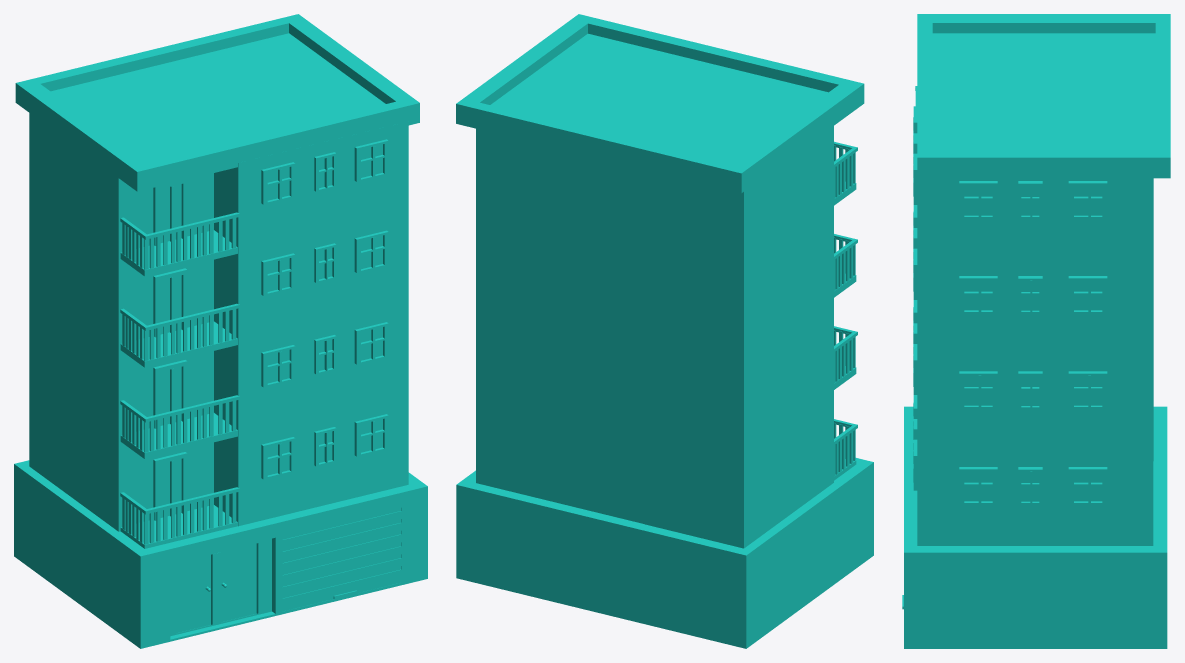
3 views of the same model, side by side, from view 1: azimuth 30°, elevation 25°; view 2: azimuth 150°, elevation 25°; view 3: azimuth 270°, elevation 25° (orthographic). The views are drawn at different scales.
Parts seen in each view (by area): view 1: pasted__pasted__pasted__pCube30 pasted__pasted__group pasted, pasted__pasted__floor_01 pasted__group group22 pasted__past. (×5), pasted__pasted__pasted__floor_01 pasted__pasted__group past. (×5), ground pasted__pCube30 pasted__floor01, pasted__floor_01 group pasted__floor01 pasted__pCube30, floor_01 floor01 pCube30, pasted__floor_01 group pasted__floor01 pasted__pasted__pCube (×2), floor_01 floor01 pasted__pCube30 group, ground pasted__pCube33 pasted__floor02, pasted__floor_01 group pasted__floor01 pasted__pCube33, floor_01 floor01 pCube33, pasted__floor_01 group pasted__floor01 pasted__pasted__paste (+17 smaller); view 2: pasted__pasted__pasted__pCube30 pasted__pasted__group pasted, ground pasted__pCube30 pasted__floor01, pasted__pasted__floor_01 pasted__group group22 pasted__past. (×2), pasted__pasted__pasted__floor_01 pasted__pasted__group past. (×2), pasted__floor_01 group pasted__floor01 pasted__pasted__pCube, floor_01 floor01 pasted__pCube30 group, pasted__floor_01 group pasted__floor01 pasted__pCube30, floor_01 floor01 pCube30; view 3: pasted__pasted__pasted__pCube30 pasted__pasted__group pasted, ground pasted__pCube30 pasted__floor01, pasted__pasted__floor_01 pasted__group group22 pasted__past. (×3), pasted__floor_01 group pasted__floor01 pasted__pCube30, pasted__pasted__pasted__floor_01 pasted__pasted__group past. (×3), floor_01 floor01 pCube30, pasted__floor_01 group pasted__pasted__pasted__pasted__pCube (×2), floor_01 pasted__pasted__pasted__pasted__pCube33, pasted__floor_01 group pasted__pasted__pasted__pasted__paste, floor_01 pasted__pasted__pasted__pCube33, pasted__pasted__floor_01 pasted__group group22 pasted__past, pasted__pasted__pasted__floor_01 pasted__pasted__group past (+1 smaller).
Boxes of the visible parts, <box> form: pasted__pasted__pasted__pCube30 pasted__pasted__group pasted: <box>15,14,419,191</box>; pasted__pasted__floor_01 pasted__group group22 pasted__past. (×5): <box>29,194,408,367</box>; pasted__pasted__pasted__floor_01 pasted__pasted__group past. (×5): <box>29,113,408,276</box>; ground pasted__pCube30 pasted__floor01: <box>14,460,427,648</box>; pasted__floor_01 group pasted__floor01 pasted__pCube30: <box>214,304,408,437</box>; floor_01 floor01 pCube30: <box>214,396,408,526</box>; pasted__floor_01 group pasted__floor01 pasted__pasted__pCube (×2): <box>29,285,295,441</box>; floor_01 floor01 pasted__pCube30 group: <box>29,377,213,531</box>; ground pasted__pCube33 pasted__floor02: <box>170,538,271,636</box>; pasted__floor_01 group pasted__floor01 pasted__pCube33: <box>153,360,187,428</box>; floor_01 floor01 pCube33: <box>153,452,187,520</box>; pasted__floor_01 group pasted__floor01 pasted__pasted__paste: <box>120,413,237,458</box>; pasted__pasted__pasted__pCube30 pasted__pasted__group pasted: <box>456,14,864,193</box>; ground pasted__pCube30 pasted__floor01: <box>456,458,873,648</box>; pasted__pasted__floor_01 pasted__group group22 pasted__past. (×2): <box>476,207,833,365</box>; pasted__pasted__pasted__floor_01 pasted__pasted__group past. (×2): <box>476,126,833,273</box>; pasted__floor_01 group pasted__floor01 pasted__pasted__pCube: <box>644,299,833,457</box>; floor_01 floor01 pasted__pCube30 group: <box>644,392,833,548</box>; pasted__floor_01 group pasted__floor01 pasted__pCube30: <box>476,301,644,435</box>; floor_01 floor01 pCube30: <box>476,393,644,523</box>; pasted__pasted__pasted__pCube30 pasted__pasted__group pasted: <box>917,14,1170,178</box>; ground pasted__pCube30 pasted__floor01: <box>904,406,1167,648</box>; pasted__pasted__floor_01 pasted__group group22 pasted__past. (×3): <box>917,263,1153,359</box>; pasted__floor_01 group pasted__floor01 pasted__pCube30: <box>917,358,1153,454</box>; pasted__pasted__pasted__floor_01 pasted__pasted__group past. (×3): <box>917,178,1153,264</box>; floor_01 floor01 pCube30: <box>917,454,1153,545</box>; pasted__floor_01 group pasted__pasted__pasted__pasted__pCube (×2): <box>959,371,1042,408</box>; floor_01 pasted__pasted__pasted__pasted__pCube33: <box>1068,467,1107,504</box>; pasted__floor_01 group pasted__pasted__pasted__pasted__paste: <box>1068,371,1107,408</box>; floor_01 pasted__pasted__pasted__pCube33: <box>959,467,997,504</box>; pasted__pasted__floor_01 pasted__group group22 pasted__past: <box>959,276,997,313</box>; pasted__pasted__pasted__floor_01 pasted__pasted__group past: <box>959,181,997,218</box>.
Bounding box in the file's own units: 22.11 × 35.91 × 17.16.
